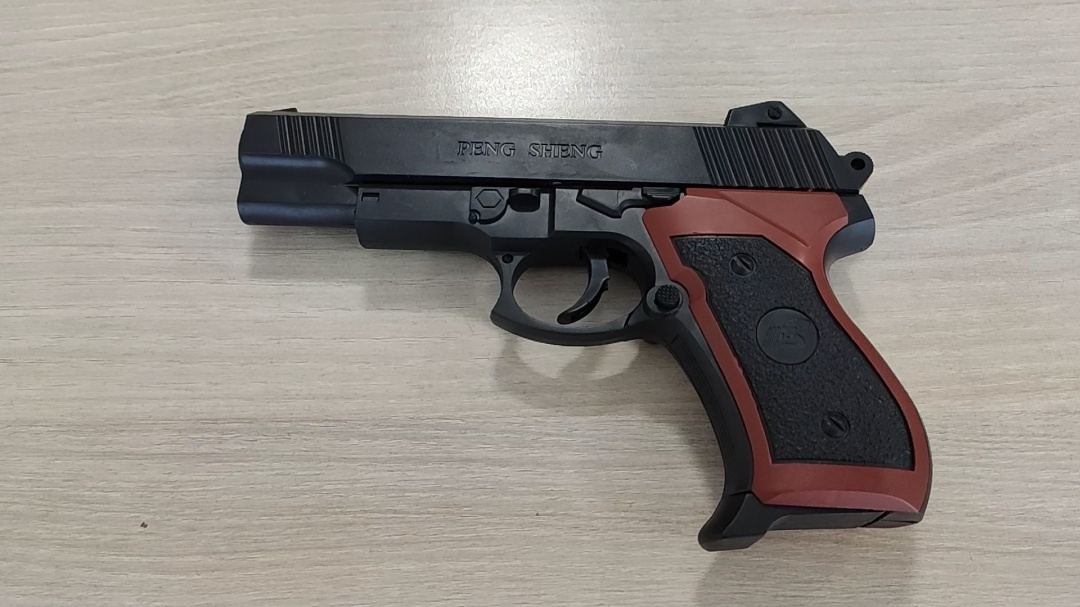gunw: (235, 99, 932, 557)
